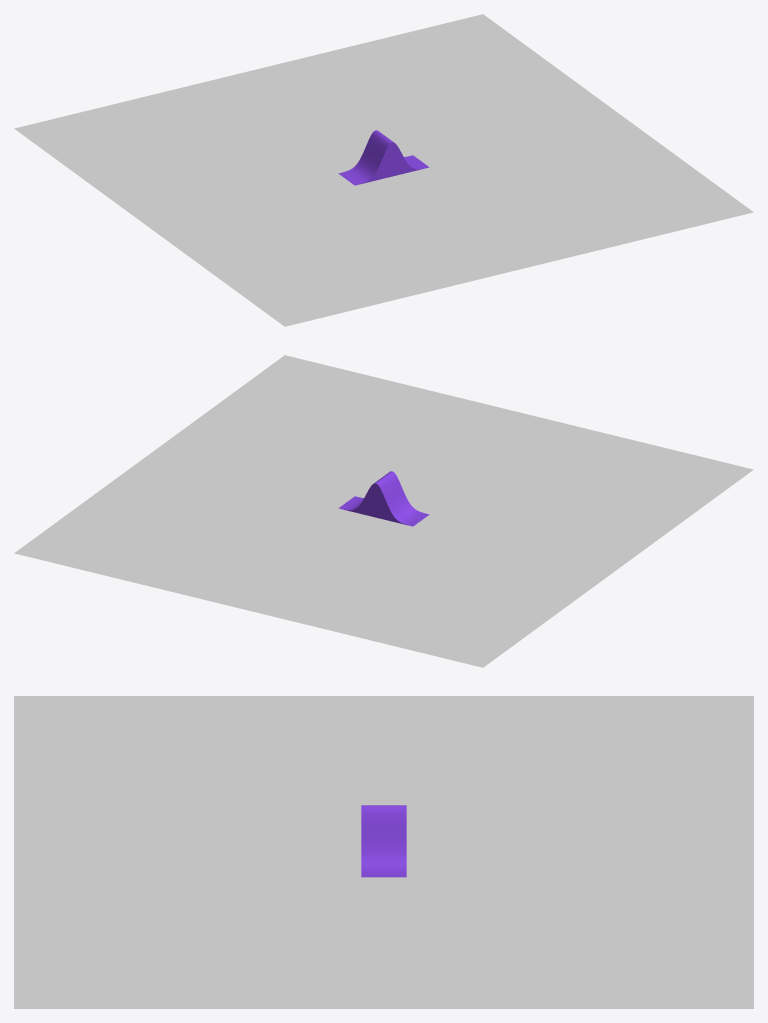
The model's file is 413_Half_Surface.glb.
The picture shows the model from 3 angles, top to bottom: view 1: azimuth 30°, elevation 25°; view 2: azimuth 150°, elevation 25°; view 3: azimuth 270°, elevation 25°; orthographic projection. The views are drawn at different scales.
Parts seen in each view (by area): view 1: Plane; view 2: Plane; view 3: Plane.
Part boxes in pixels (box(x1,y1,x2,y2)): Plane: box(14, 14, 753, 326); Plane: box(14, 355, 753, 667); Plane: box(14, 696, 753, 1008).
Bounding box in the file's own units: 48.94 × 3.4 × 48.94.
